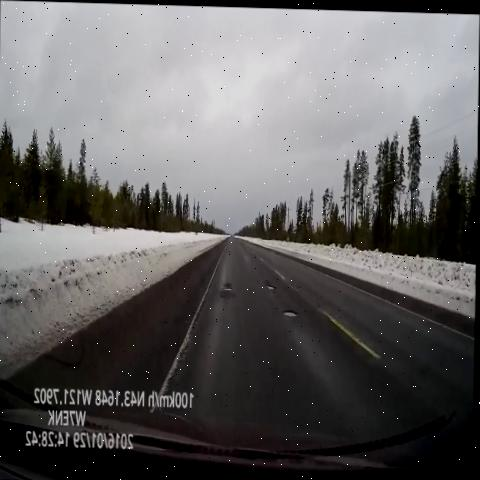pothole: (216, 276, 240, 302), (281, 303, 303, 323), (263, 276, 281, 296), (226, 242, 238, 255)
